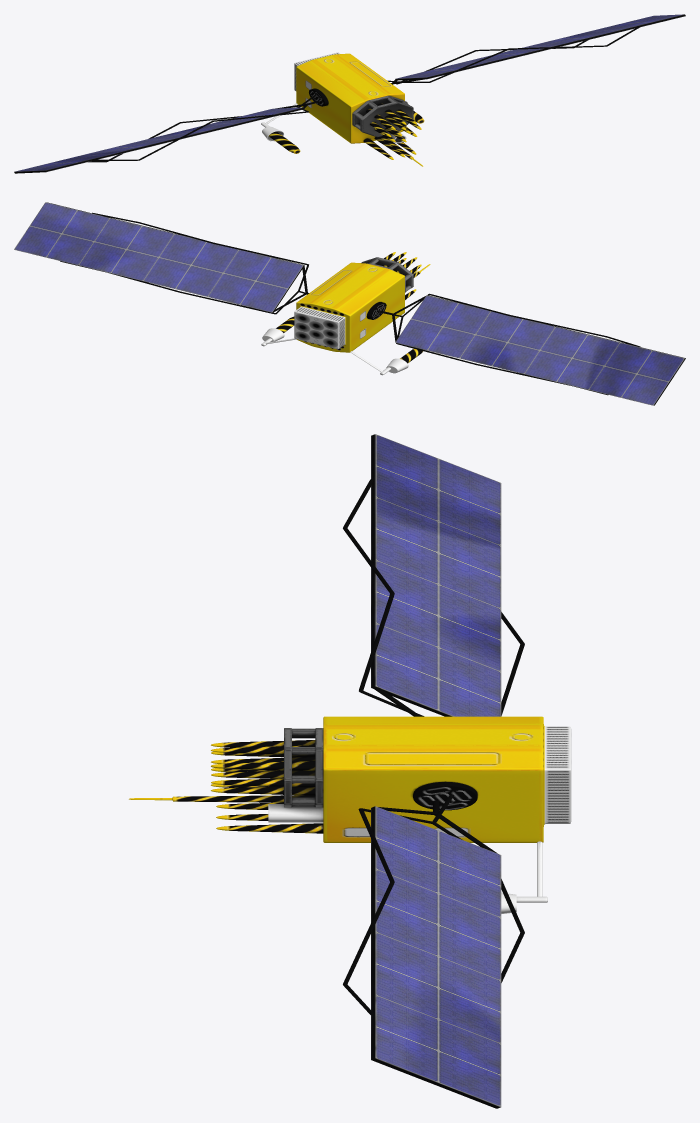
The model's file is sat.glb.
3 views of the same model, one above another, from view 1: azimuth 30°, elevation 25°; view 2: azimuth 150°, elevation 25°; view 3: azimuth 270°, elevation 25° (orthographic). The views are drawn at different scales.
Visible parts, largest first — view 1: 10477_Satellite_v1_SG; view 2: 10477_Satellite_v1_SG; view 3: 10477_Satellite_v1_SG.
Part boxes in pixels (left/top/right/bottom): 10477_Satellite_v1_SG: left=14, top=14, right=685, bottom=173; 10477_Satellite_v1_SG: left=14, top=202, right=685, bottom=405; 10477_Satellite_v1_SG: left=129, top=434, right=571, bottom=1108.
Size of the model in its own units: 95.85 by 8.3 by 28.71.
2 materials, 1 textured.
